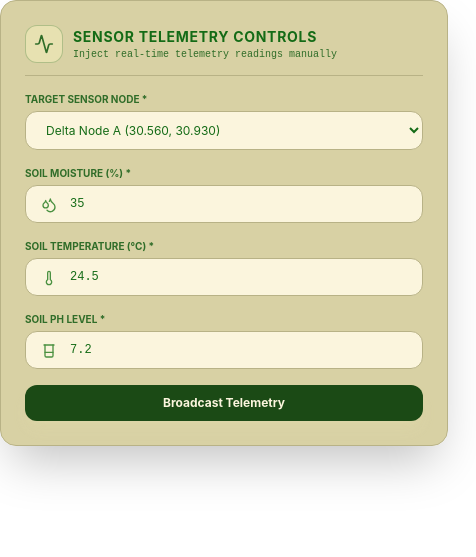
TelemetryForm Component › submits manual telemetry values successfully
Replace the text in the number field with placeholder "e.g. 35" with "25" at {"x": 224, "y": 204}, box [25,185,423,223]
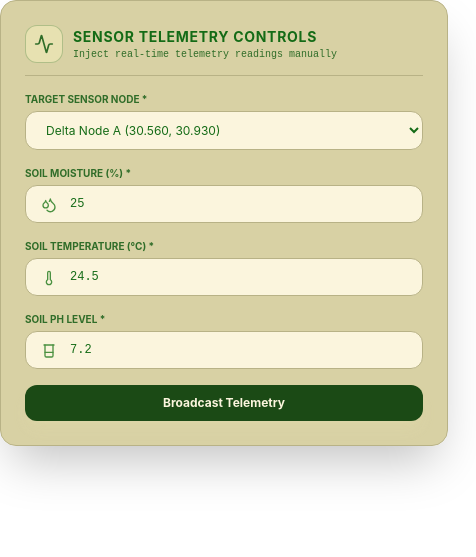
Replace the text in the number field with placeholder "e.g. 24.5" with "28.5" at {"x": 224, "y": 277}, box [25,258,423,296]
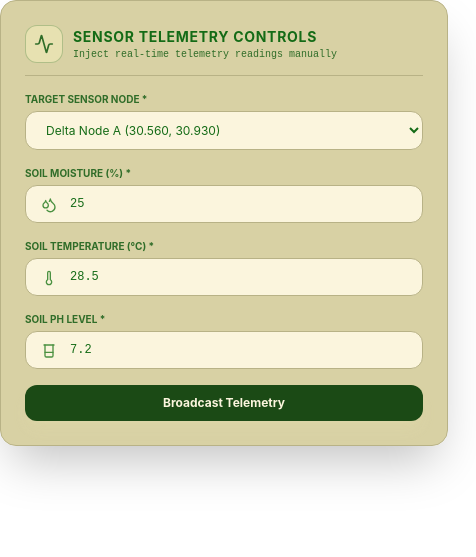
Replace the text in the number field with placeholder "e.g. 7.2" with "6.8" at {"x": 224, "y": 350}, box [25,331,423,369]
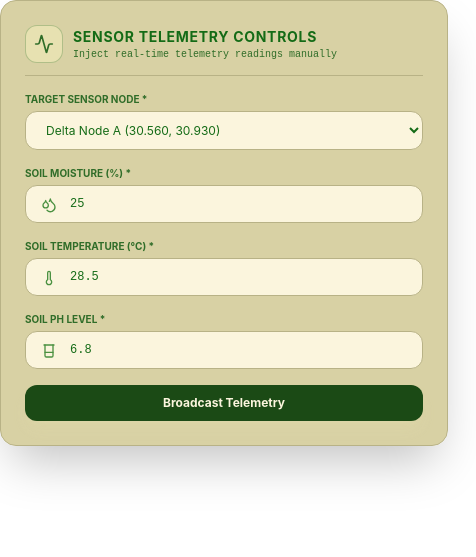
Click the button "Broadcast Telemetry" at {"x": 224, "y": 403}, box [25,385,423,421]
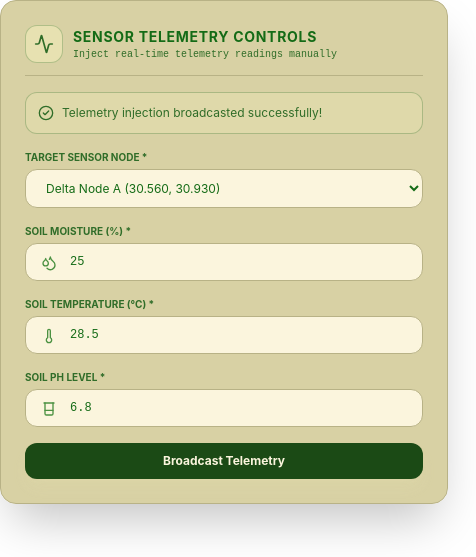
Expected: the text "Telemetry injection broadcasted successfully!" is shown, [62,105,322,121]
